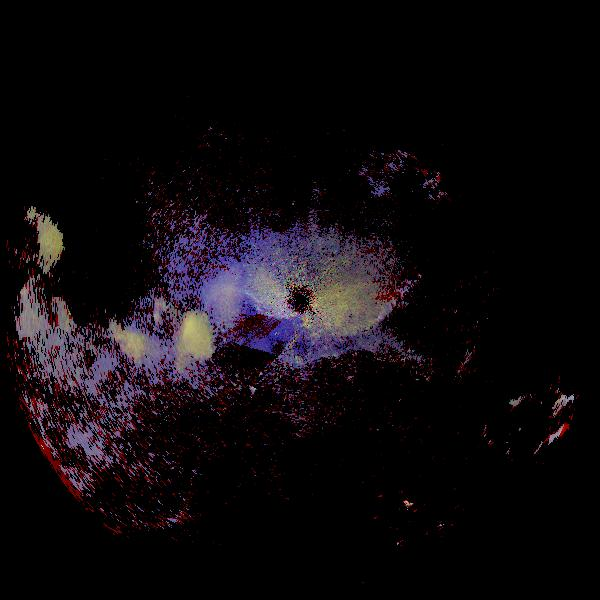roost: (81, 273, 237, 429)
